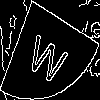W: (24, 25, 73, 87)
